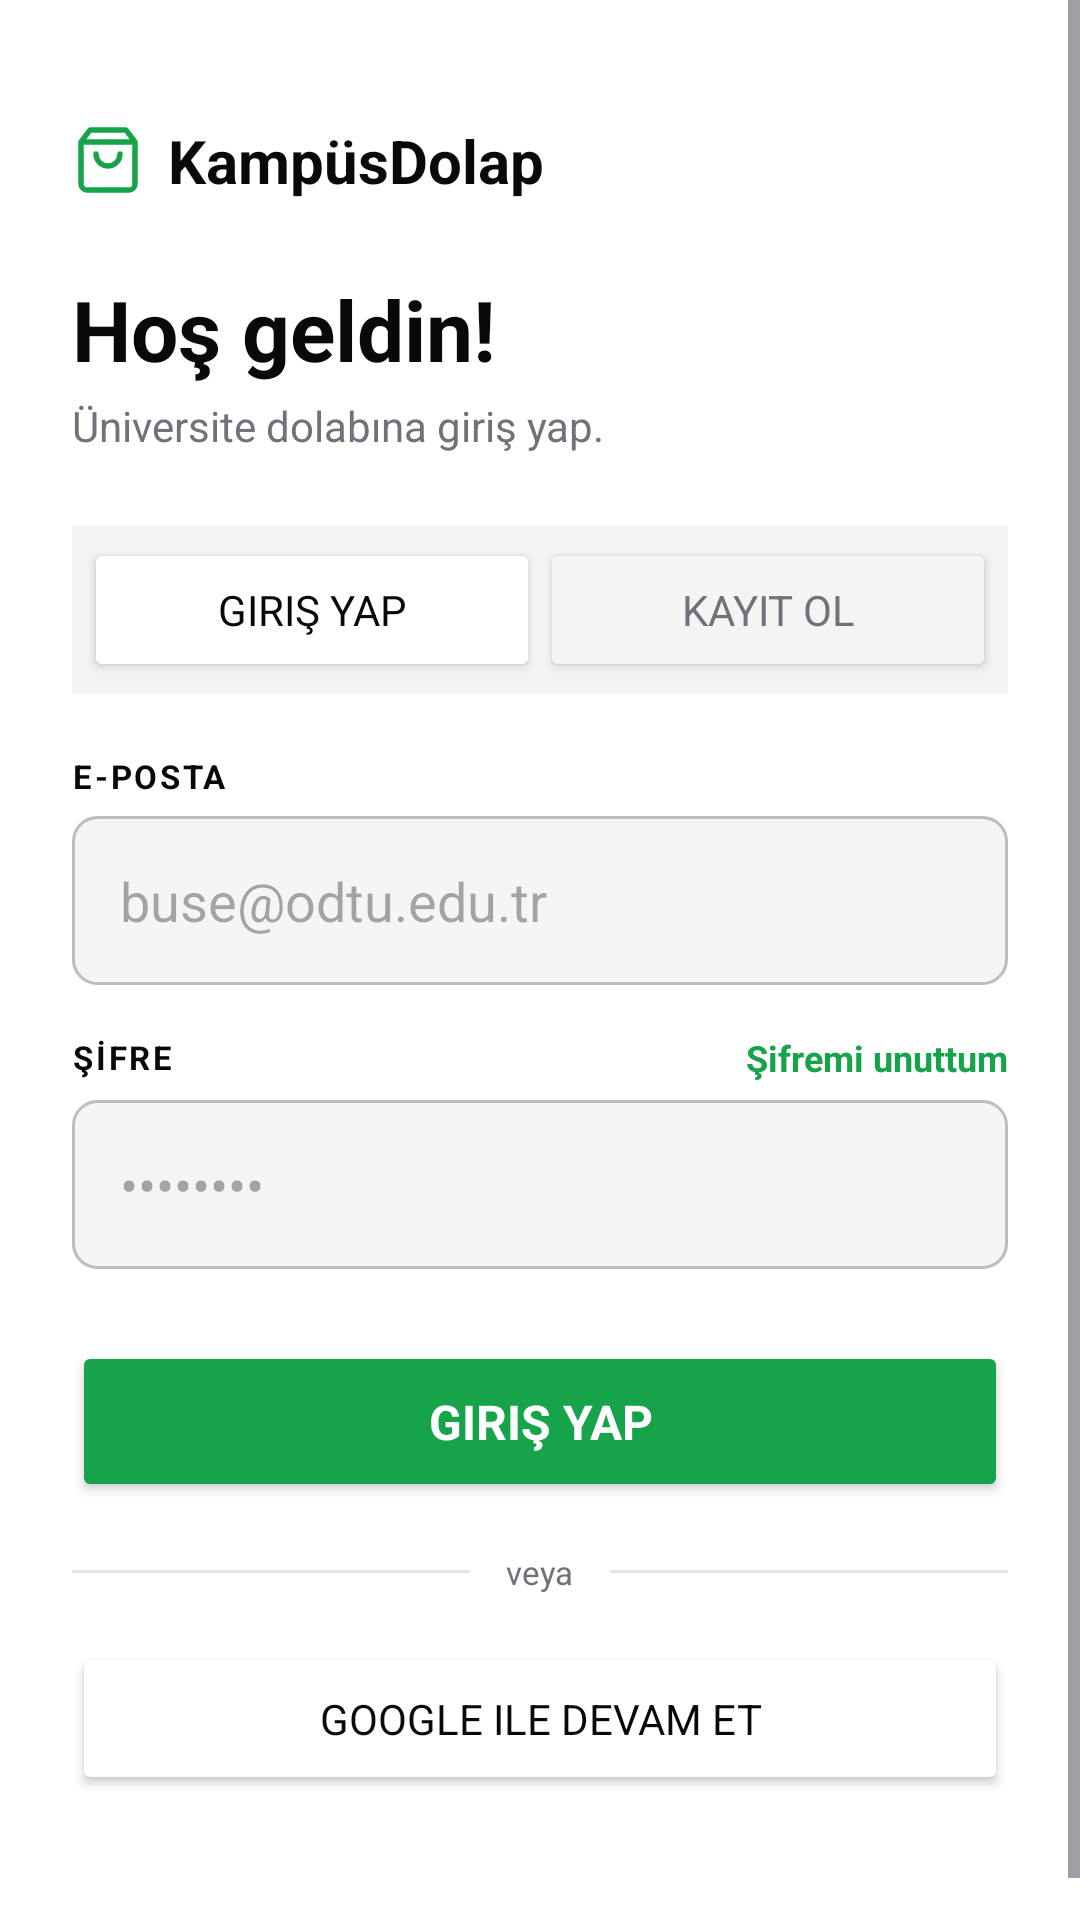

Icon bounding boxes for this 1080×1920 phone screenshot, format (x1, y1, x2, y2):
shopping bag: (78, 127, 138, 193)
